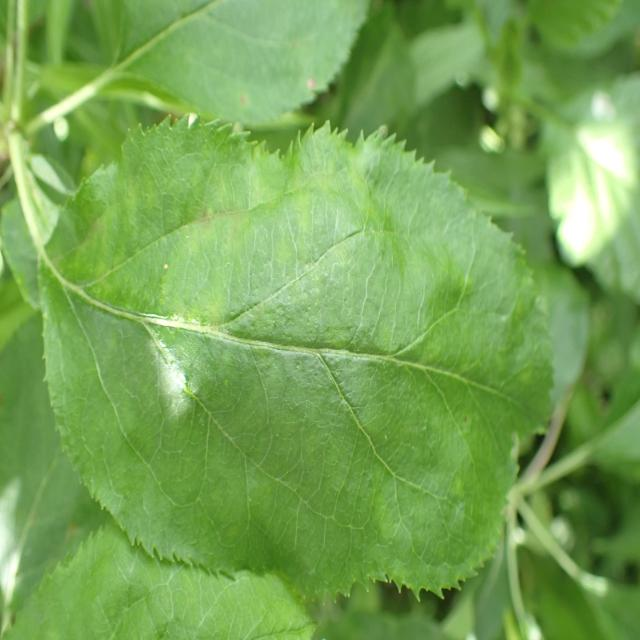scab: (31, 193, 561, 503)
